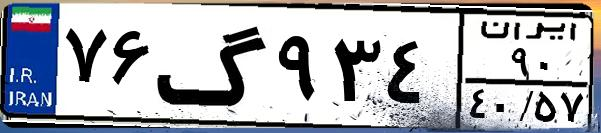0: (537, 27, 568, 80), (495, 70, 520, 125)
3: (330, 28, 385, 110)
4: (385, 28, 445, 110), (470, 70, 495, 125)
5: (535, 70, 560, 125)
6: (110, 28, 156, 98)
7: (57, 26, 110, 100), (560, 70, 590, 125)
9: (270, 28, 330, 110), (508, 27, 537, 80)
گ: (156, 12, 270, 120)
